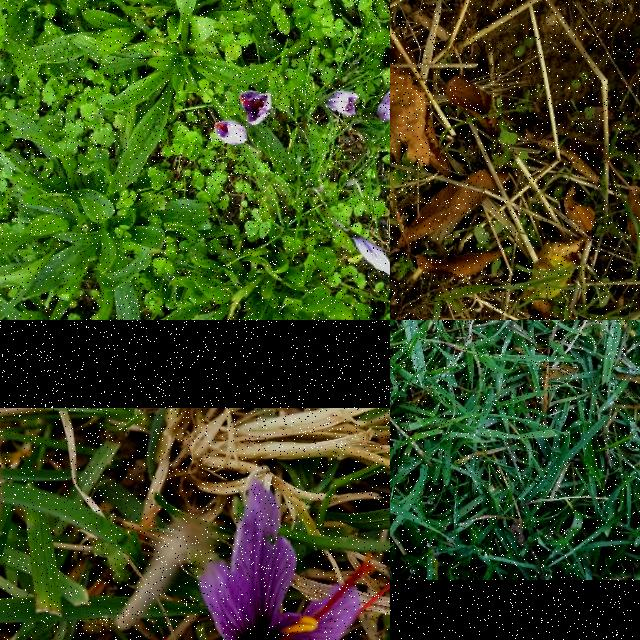flower: (184, 476, 390, 640), (352, 227, 390, 274), (240, 90, 272, 126), (326, 90, 358, 116), (215, 122, 248, 146), (376, 80, 390, 125)
